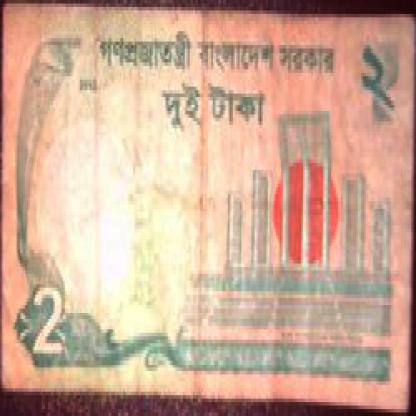two taka: (25, 281, 73, 378), (351, 35, 389, 118)
